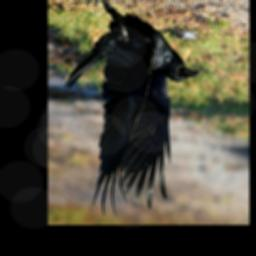Crow: (64, 0, 201, 219)
